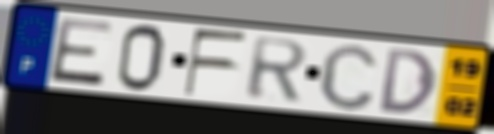0: (115, 22, 170, 93)
C: (316, 41, 381, 113)
D: (378, 46, 439, 116)
E: (46, 16, 117, 89)
F: (182, 27, 251, 98)
R: (244, 35, 312, 103)
